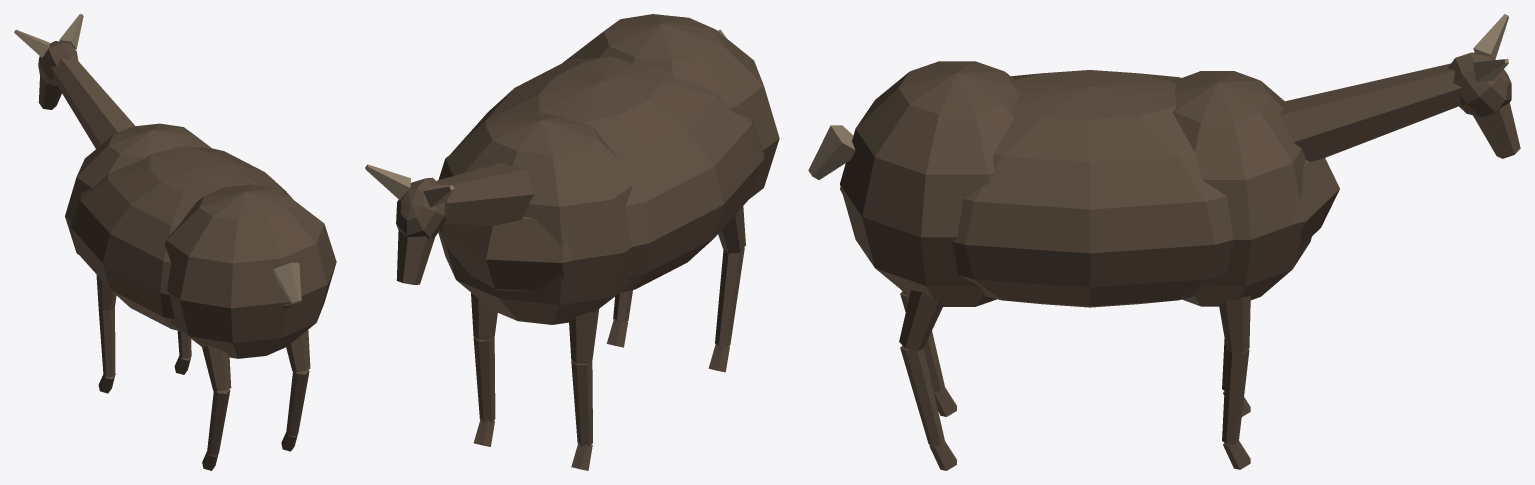
Rendered from deer.glb.
3 views of the same model, side by side, from view 1: azimuth 30°, elevation 25°; view 2: azimuth 150°, elevation 25°; view 3: azimuth 270°, elevation 25° (orthographic). The views are drawn at different scales.
Visible parts, largest first — view 1: deer, head; view 2: deer, head; view 3: deer, head.
Part boxes in pixels (<box>): deer: <box>65,123,336,470</box>; head: <box>14,14,135,148</box>; deer: <box>438,14,779,470</box>; head: <box>365,162,534,284</box>; deer: <box>808,61,1339,470</box>; head: <box>1279,14,1520,162</box>.
Size of the model in its own units: 1.2 by 1.76 by 2.79.
